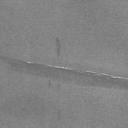finishing roll printing: (26, 61, 72, 71), (101, 72, 128, 80), (84, 70, 96, 74)
